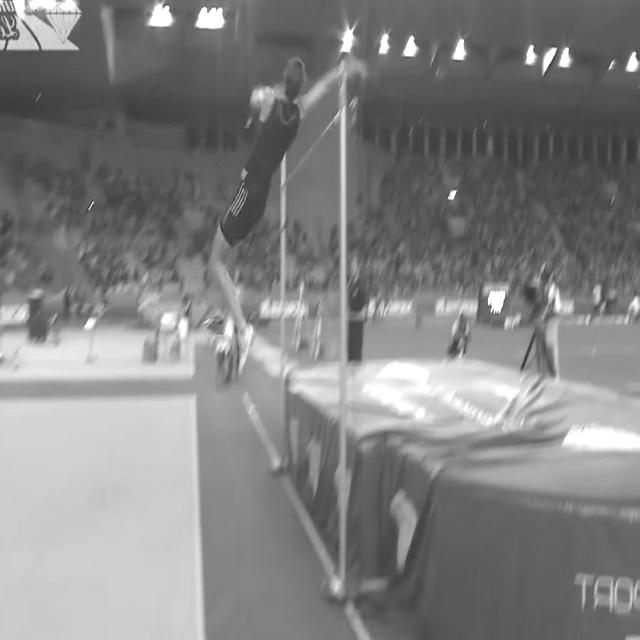jump: (206, 52, 370, 385)
